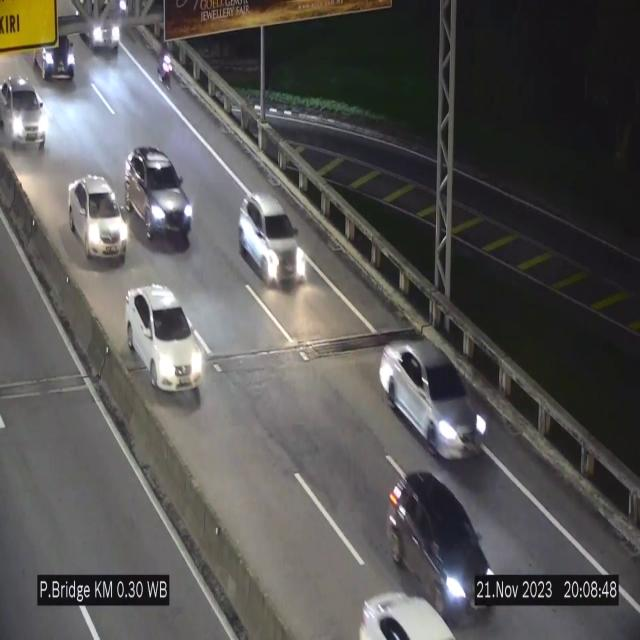Car: (384, 461, 496, 618), (380, 334, 486, 468), (125, 284, 203, 394), (125, 146, 193, 244), (351, 579, 458, 640), (239, 192, 303, 284), (69, 176, 129, 260), (0, 74, 50, 163), (77, 0, 125, 58), (34, 25, 80, 78)
Motorcycle: (156, 39, 174, 93)
